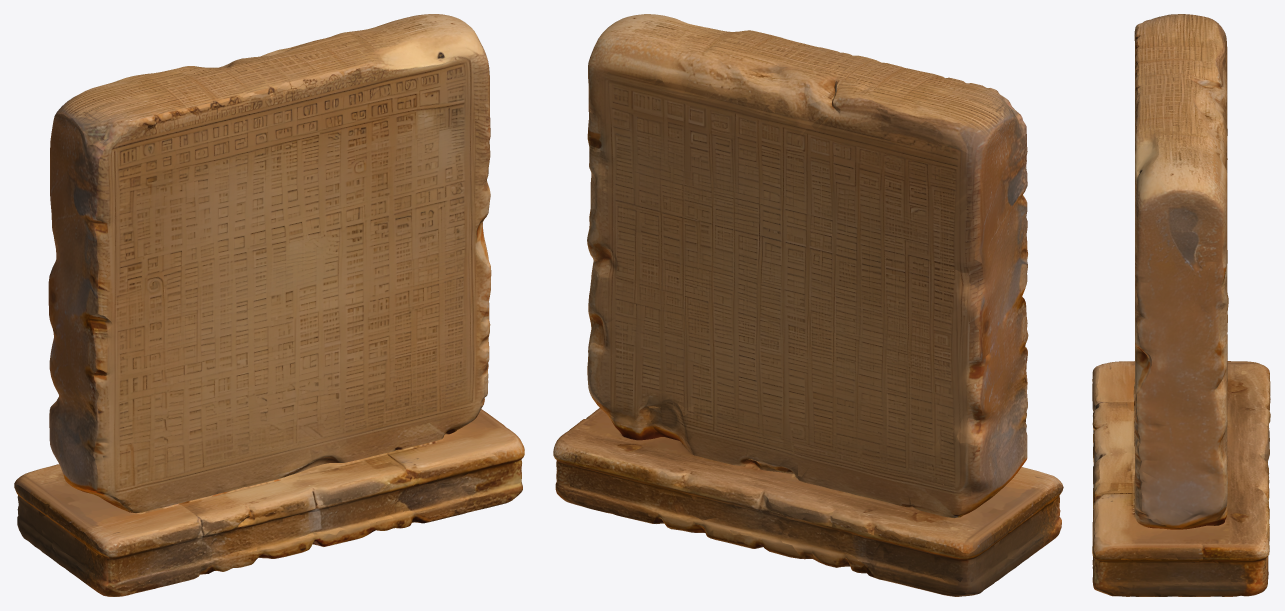
The model's file is ancient-stone-tablet.glb.
3 renders of one model, left to right at view 1: azimuth 30°, elevation 25°; view 2: azimuth 150°, elevation 25°; view 3: azimuth 270°, elevation 25°, orthographic. The views are drawn at different scales.
Visible parts, largest first — view 1: textured_mesh; view 2: textured_mesh; view 3: textured_mesh.
Boxes of the visible parts, left/top/right/bottom form: textured_mesh: left=14, top=14, right=524, bottom=596; textured_mesh: left=553, top=14, right=1063, bottom=596; textured_mesh: left=1092, top=14, right=1270, bottom=596.
Bounding box in the file's own units: 1.96 × 1.99 × 0.7828.
1 material, 1 textured.
